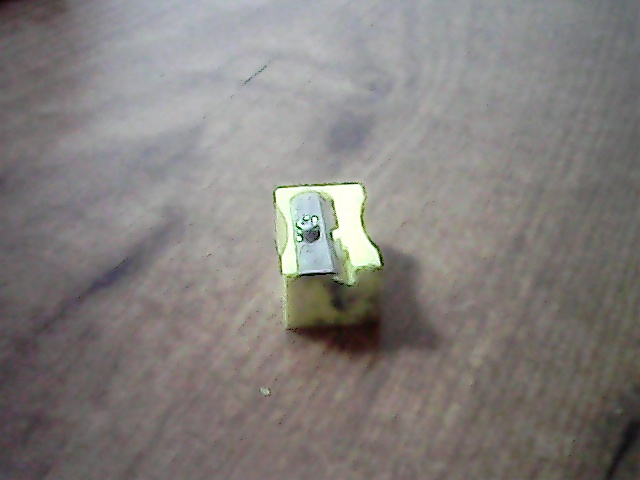Thesis-Bottle-Cap-Defect-Detecti: (276, 184, 384, 327)
